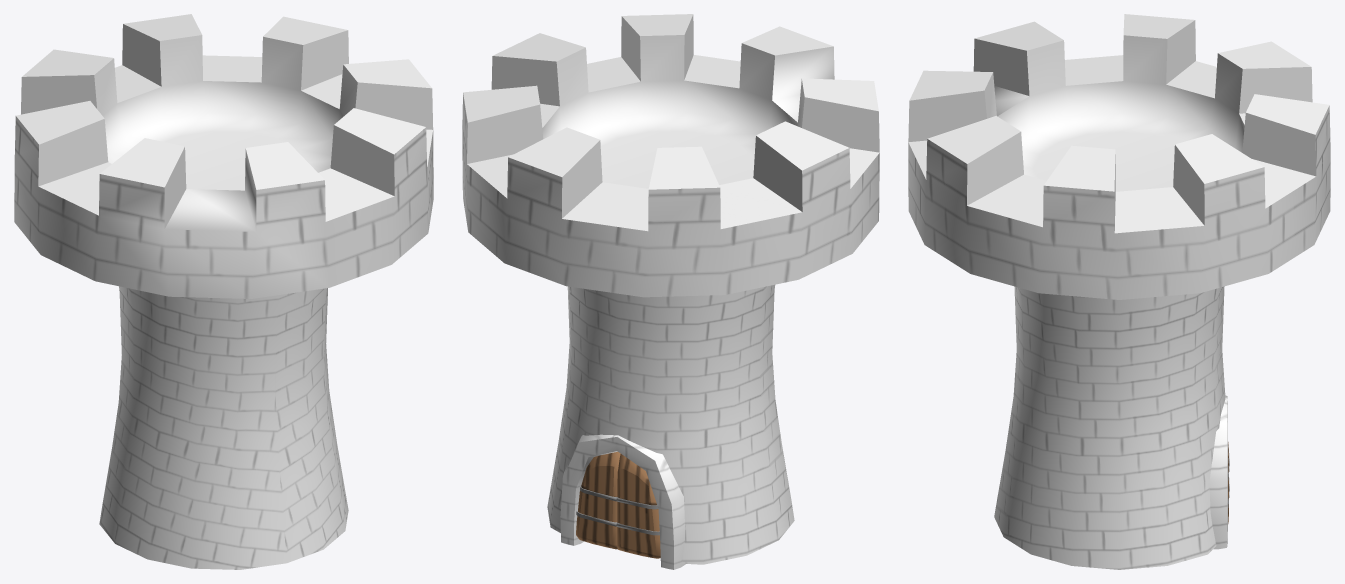
Rendered from TowerV2.fbx.
3 renders of one model, left to right at view 1: azimuth 30°, elevation 25°; view 2: azimuth 150°, elevation 25°; view 3: azimuth 270°, elevation 25°, orthographic.
Visible parts, largest first — view 1: Tower Combined; view 2: Tower Combined; view 3: Tower Combined.
Part boxes in pixels (box(x1,y1,x2,y2)): Tower Combined: box(14, 14, 433, 569); Tower Combined: box(462, 14, 879, 569); Tower Combined: box(908, 14, 1330, 569).
Bounding box in the file's own units: 6.65 × 6.65 × 7.45.
Materials: 3 (2 with a texture image).
